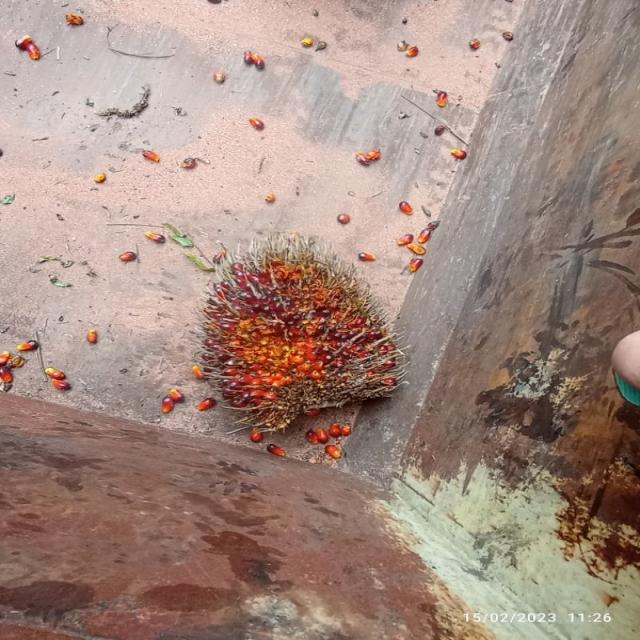fraksi 1: (190, 235, 447, 460)
